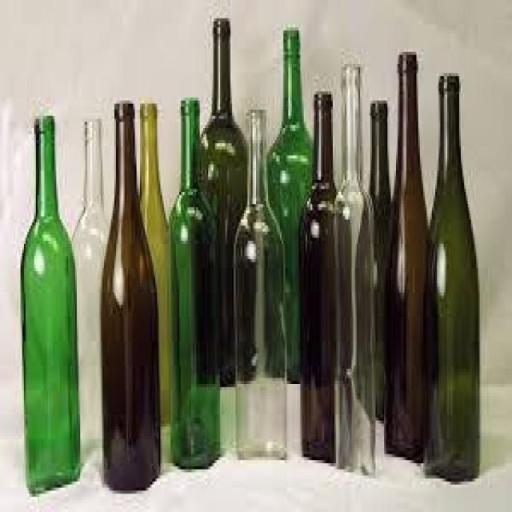glass: (424, 74, 480, 480), (20, 114, 80, 492), (232, 110, 290, 459), (383, 54, 430, 456), (169, 99, 220, 467), (332, 64, 378, 472), (200, 18, 250, 380), (266, 30, 314, 372), (298, 93, 340, 459), (70, 118, 109, 452), (138, 101, 172, 423)
